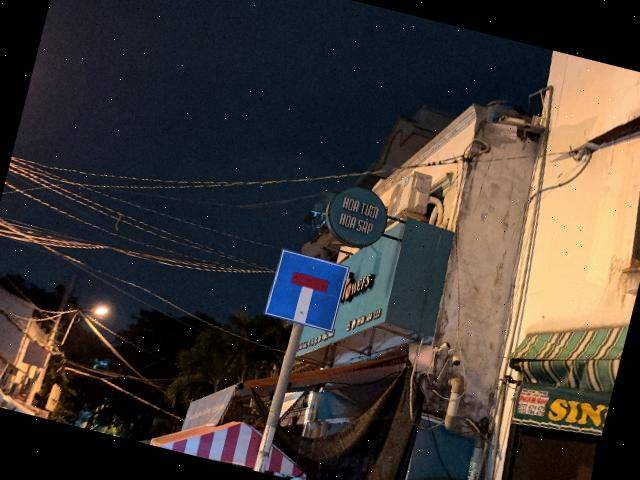duong-cut: (264, 249, 348, 332)
